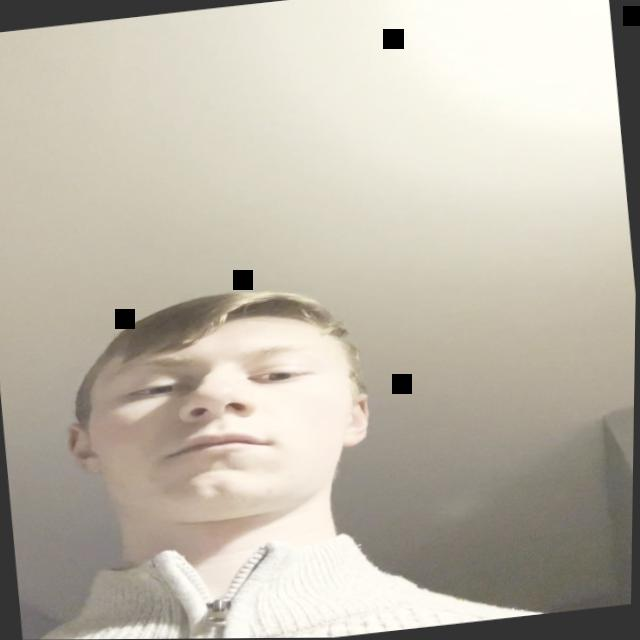NO-Mask: (58, 278, 394, 568)
